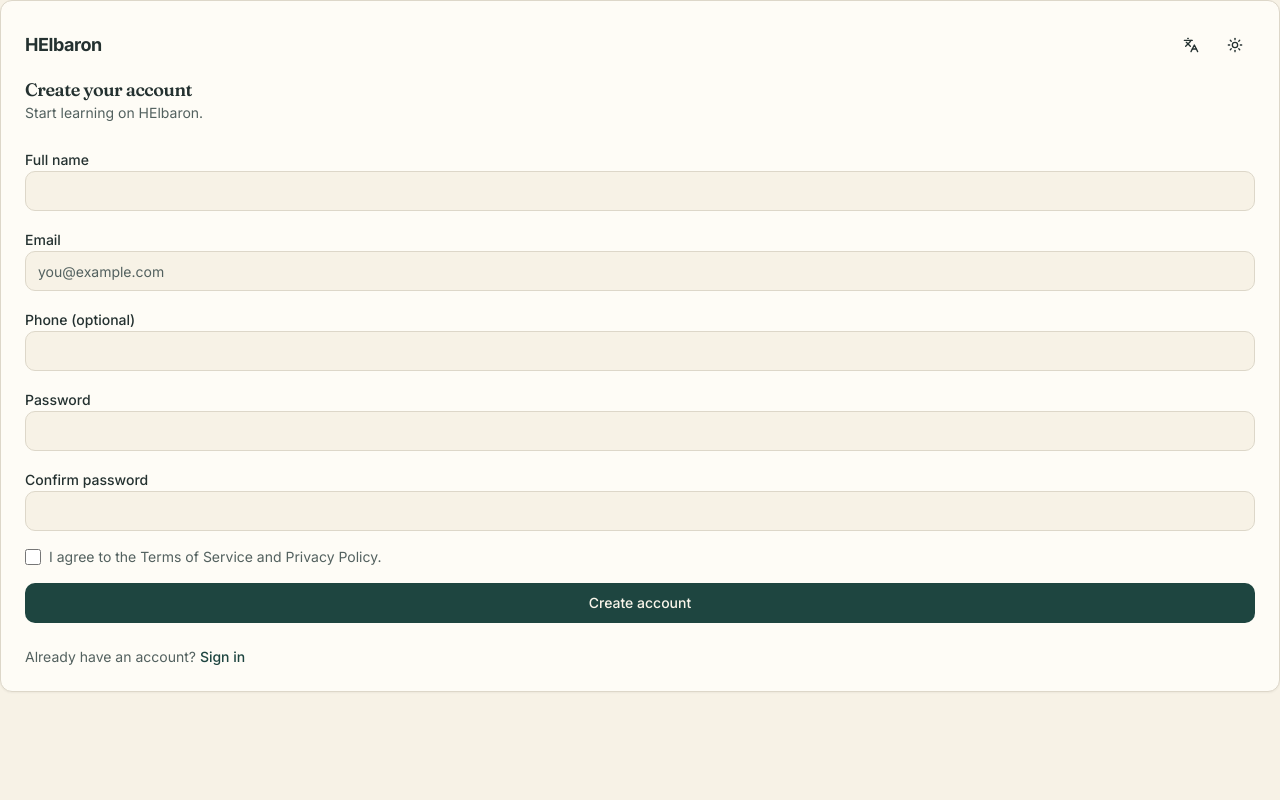
RegisterPage › validates password confirmation and terms
In the field labelled "Full name": (640, 191) [25,171,1255,211], type "Sara"
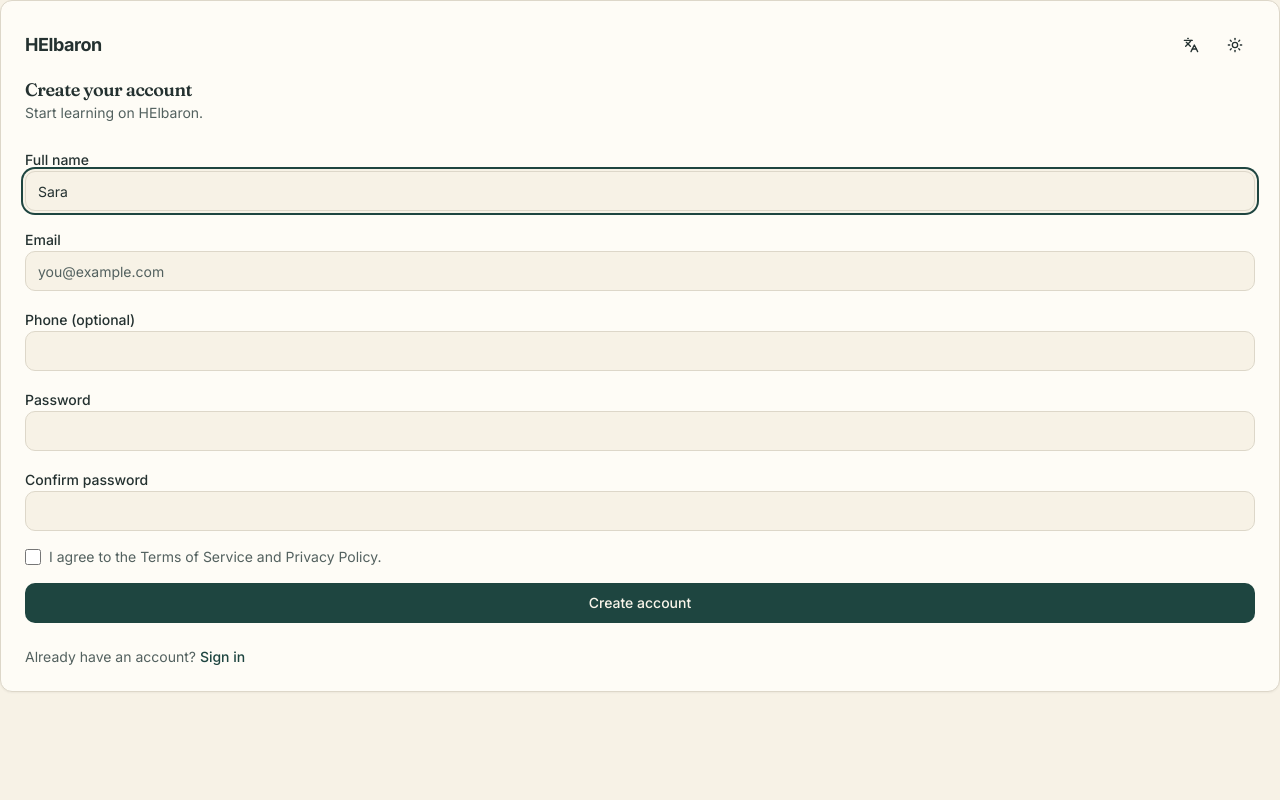
In the field labelled "Email": (640, 271) [25,251,1255,291], type "sara@example.com"
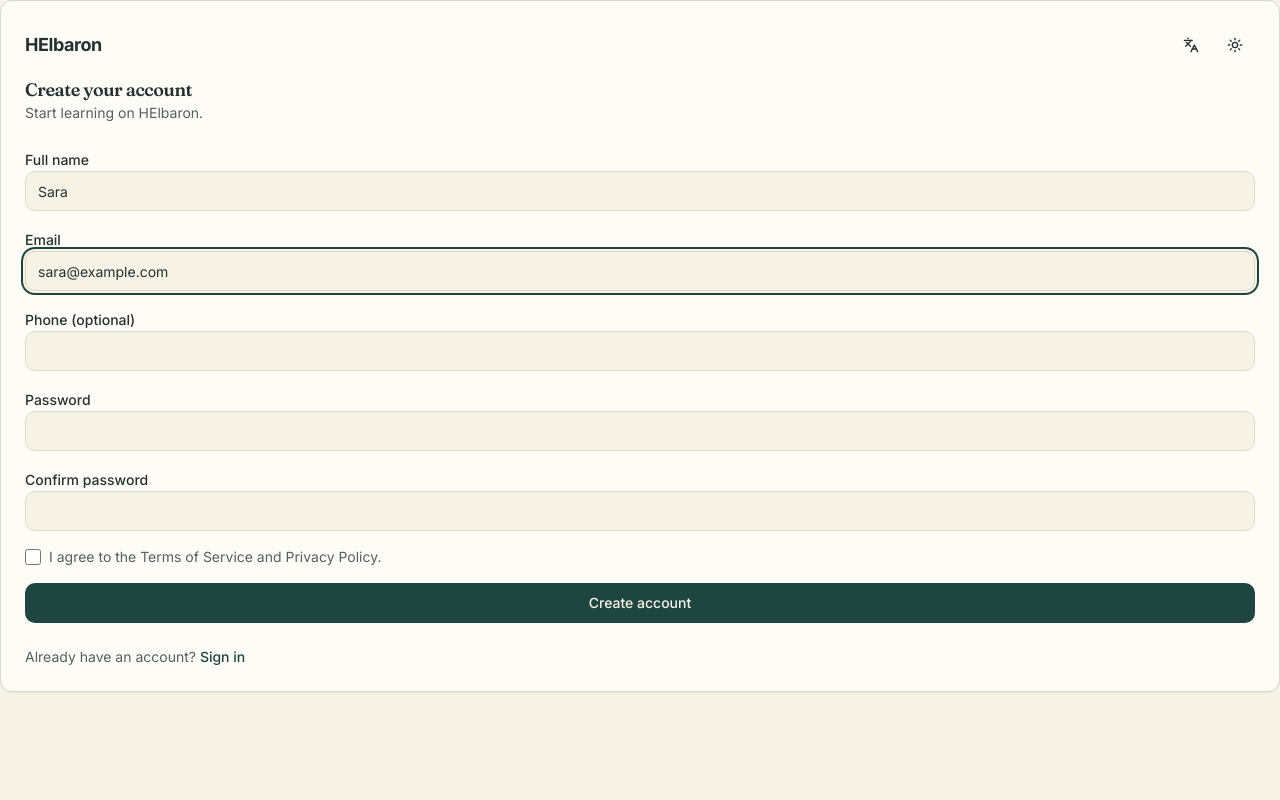
In the password field labelled "Password": (640, 431) [25,411,1255,451], type "secret123"
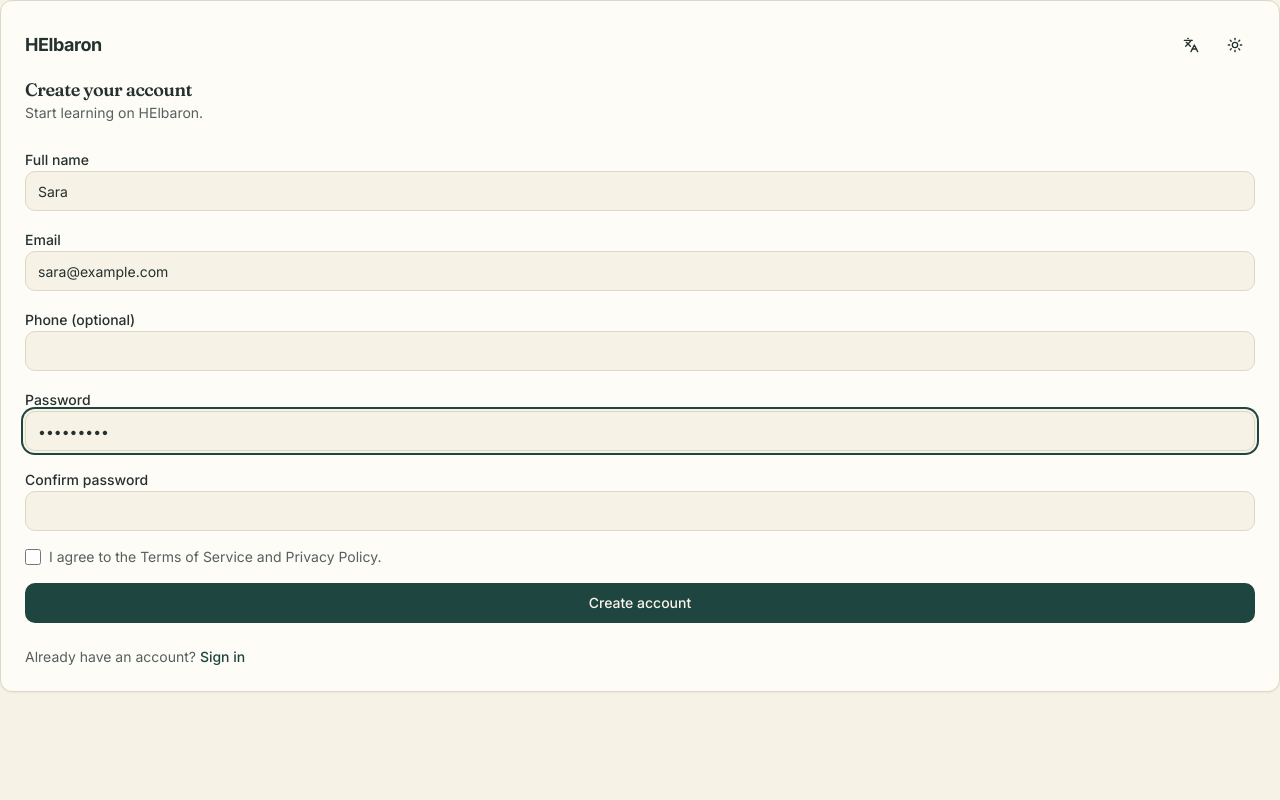
In the password field labelled "Confirm password": (640, 511) [25,491,1255,531], type "different"
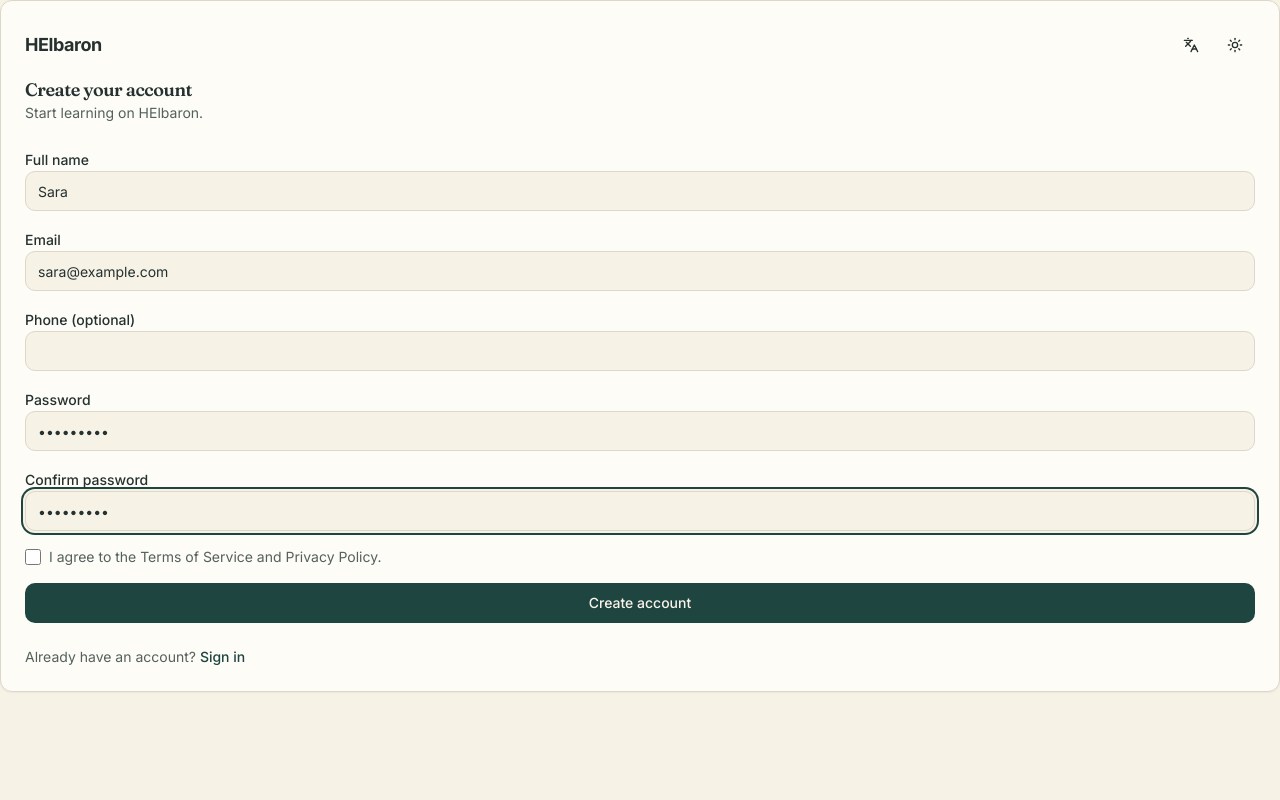
Click the button "Create account": (640, 603) [25,583,1255,623]
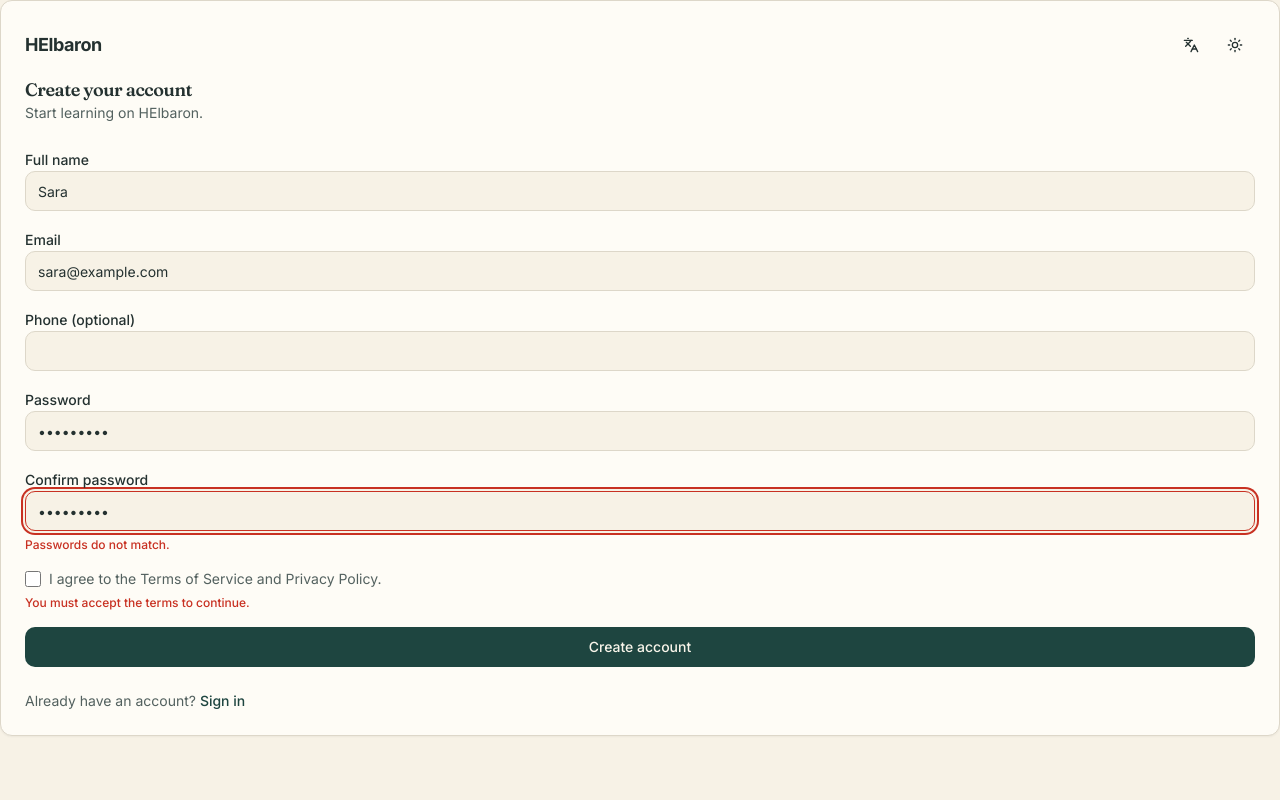
Expected: the text "Passwords do not match." is shown, [25,537,170,552]
